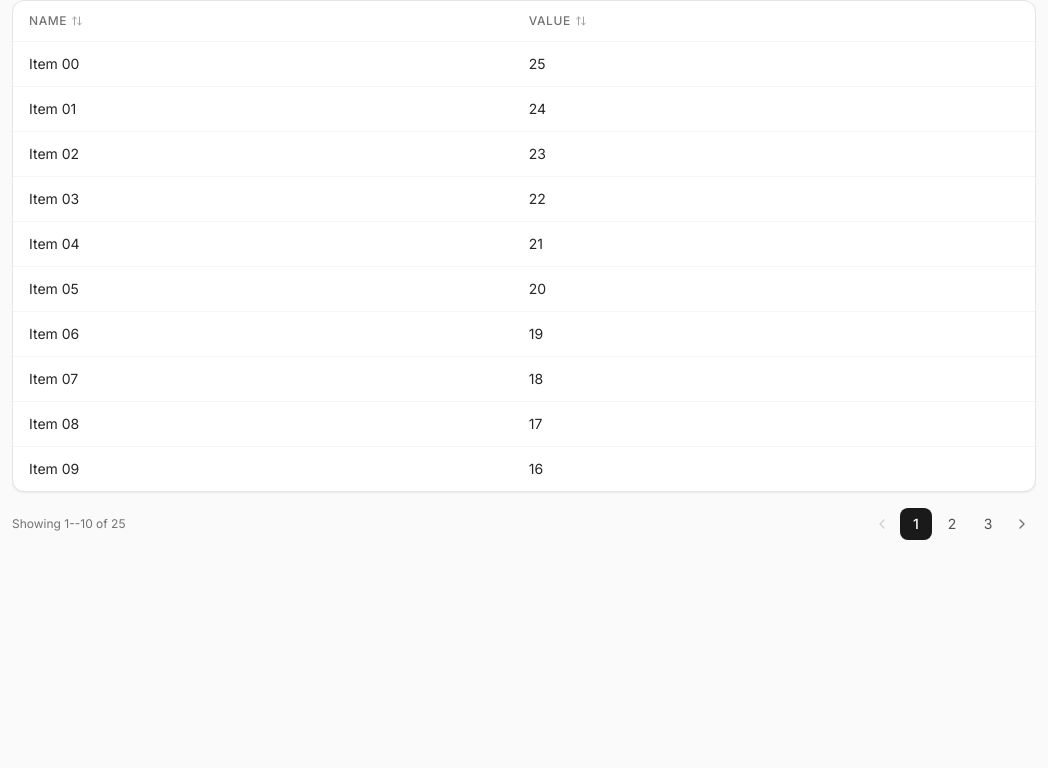
DataTable › paginates data correctly
The image size is (1048, 768).
Check: the text "Item 00" is shown, box [29, 55, 79, 72]
What coordinates should you click on to do the following:
click the 5th button
I would click on:
 (1022, 524)
Its box is [1008, 510, 1036, 538].
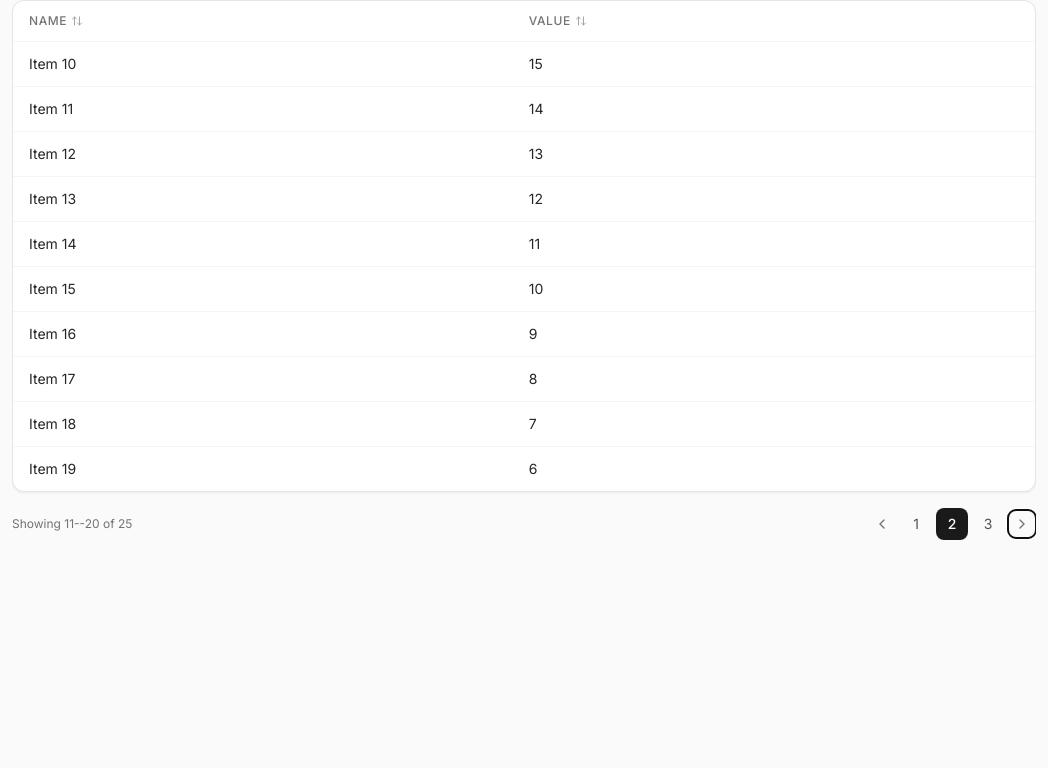
Check: the text "Item 10" is shown, box [29, 55, 76, 72]
Check: the text "Item 00" is gone
